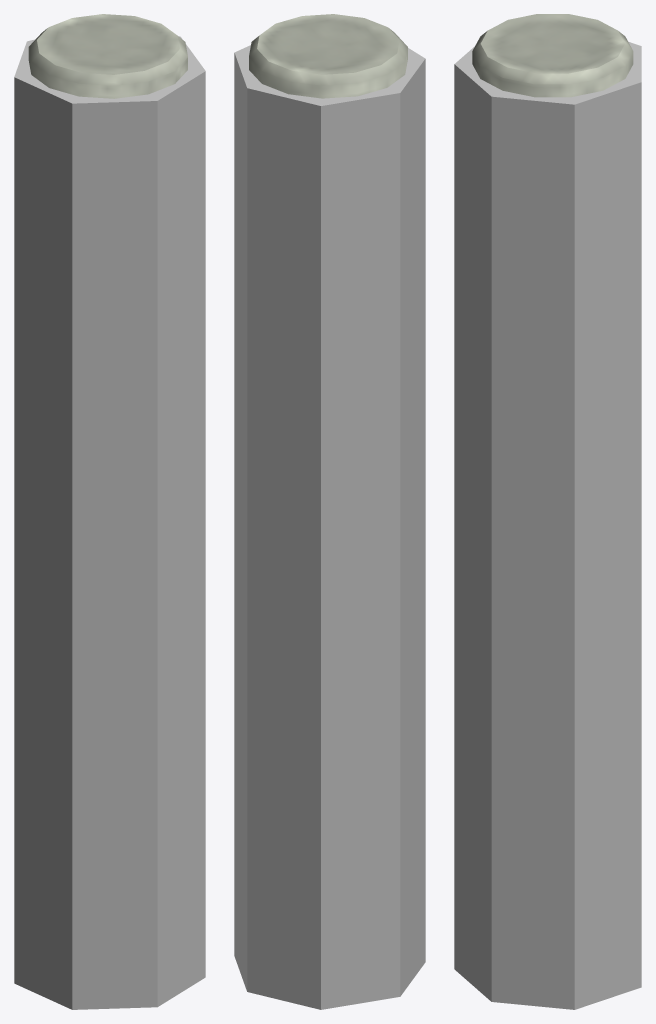
File: SM_Candle_01.fbx
3 views of the same model, side by side, from view 1: azimuth 30°, elevation 25°; view 2: azimuth 150°, elevation 25°; view 3: azimuth 270°, elevation 25° (orthographic).
Visible parts, largest first — view 1: SM_Candle_01_ConvexHulls, SM_Candle_01; view 2: SM_Candle_01_ConvexHulls, SM_Candle_01; view 3: SM_Candle_01_ConvexHulls, SM_Candle_01.
Part boxes in pixels (x1,y1,x2,y2): SM_Candle_01_ConvexHulls: [14, 36, 205, 1009]; SM_Candle_01: [28, 14, 187, 98]; SM_Candle_01_ConvexHulls: [234, 45, 425, 1009]; SM_Candle_01: [249, 14, 407, 98]; SM_Candle_01_ConvexHulls: [454, 41, 641, 1009]; SM_Candle_01: [472, 14, 633, 97].
Bounding box in the file's own units: 4.07 × 3.96 × 21.64.
Materials: 2 (1 with a texture image).
